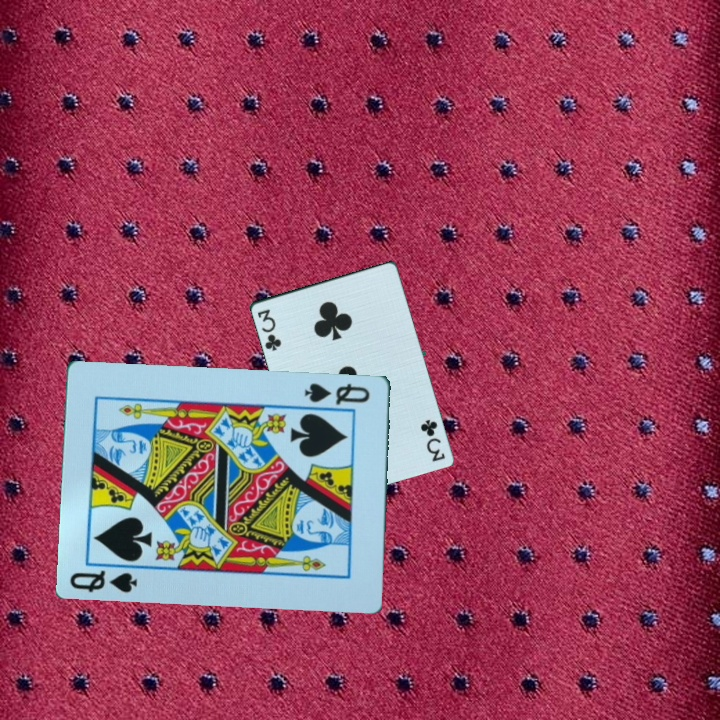3c: (253, 305, 284, 354), (420, 416, 448, 464)
Qs: (66, 566, 141, 595), (303, 379, 373, 408)
